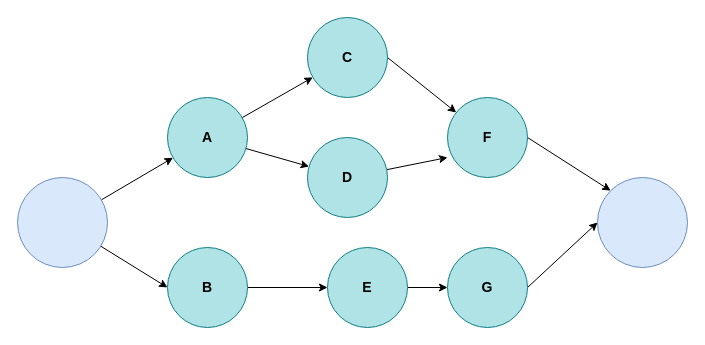
The diagram is 705 pixels wide and 345 high, and some of its shapes have lost their labels. The centre of each missing label's shape, as x and y in pixels:
"End" goes at point (642, 222).
"start" goes at point (62, 222).
